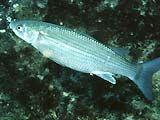Mullet: (10, 17, 160, 102)
